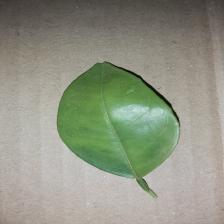greening: (53, 58, 187, 202)
